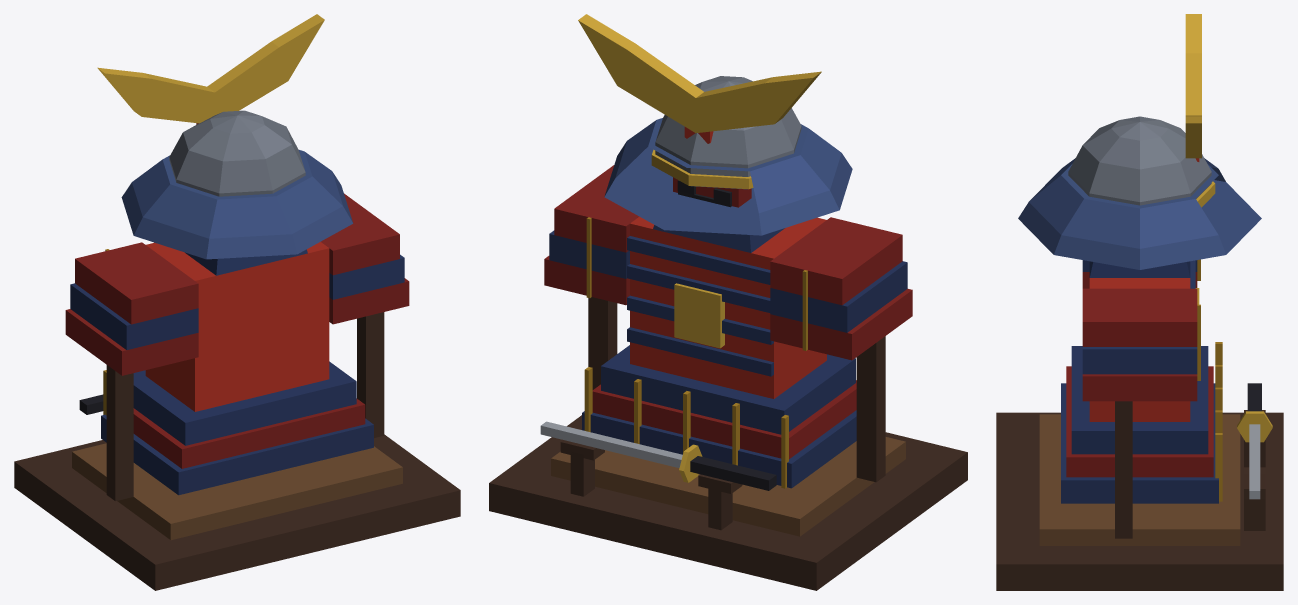
Rendered from Decor_SamuraiShrine_Armor.fbx.
The picture shows the model from 3 angles, left to right: view 1: azimuth 30°, elevation 25°; view 2: azimuth 150°, elevation 25°; view 3: azimuth 270°, elevation 25°; orthographic projection. The views are drawn at different scales.
Parts seen in each view (by area): view 1: Armor_Body; view 2: Armor_Body; view 3: Armor_Body.
Part boxes in pixels (<box>): Armor_Body: <box>14,14,460,590</box>; Armor_Body: <box>489,14,967,590</box>; Armor_Body: <box>996,14,1283,590</box>.
Size of the model in its own units: 10 by 13.73 by 8.
